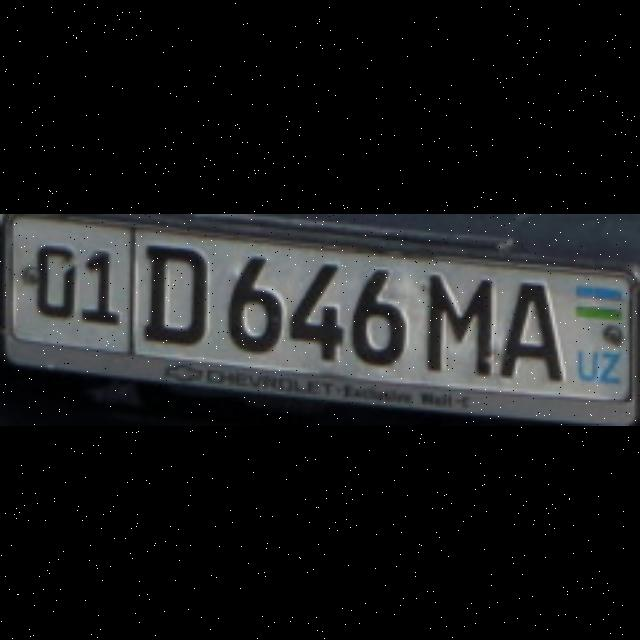0: (29, 240, 77, 310)
1: (69, 243, 119, 320)
4: (287, 257, 343, 363)
6: (342, 262, 406, 362), (216, 252, 276, 352)
A: (497, 278, 563, 374)
D: (135, 240, 207, 342)
M: (416, 270, 494, 370)
